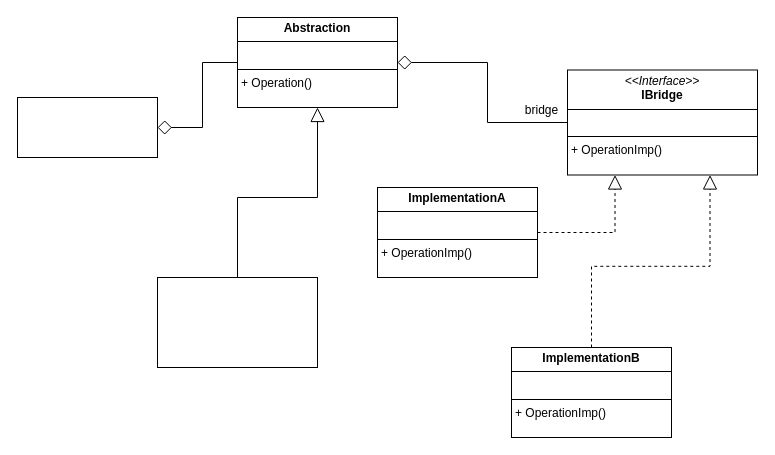
Some shapes in this 775 by 455 pixel diagram are drawn without their labels. Each missing label, with the box of its shape:
Client: (16, 96, 158, 158)
ExtendAbstraction + Operation(): (156, 276, 318, 368)
